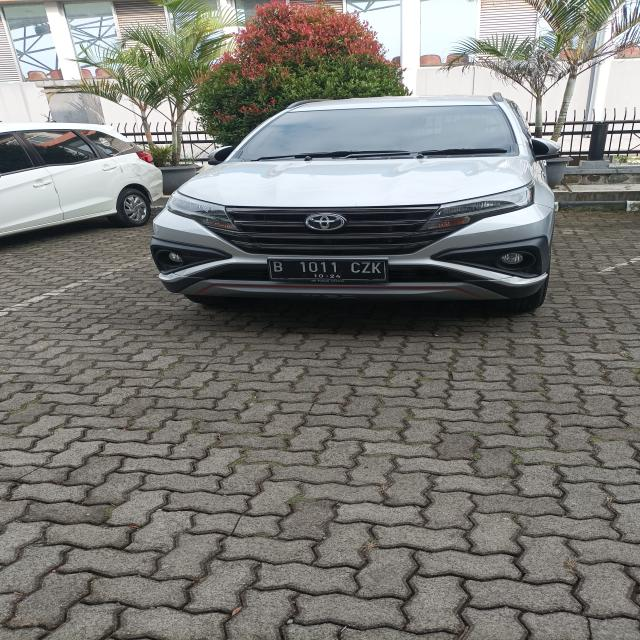license-plat: (253, 248, 416, 294)
